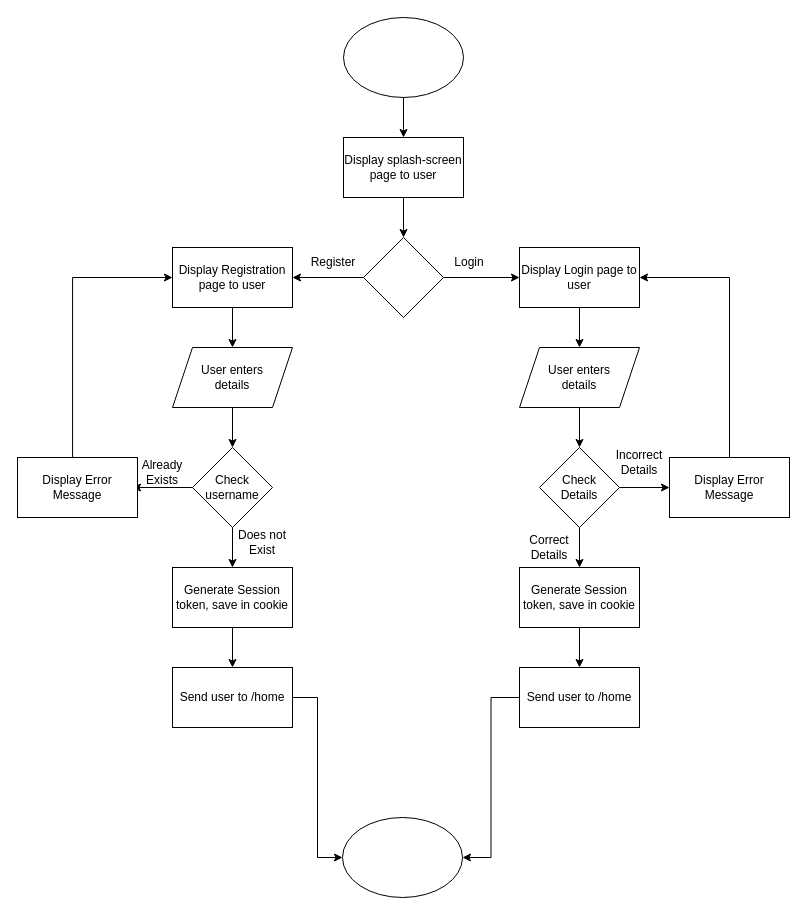
This 807x915 diagram has some shape labels left out. Each missing label, with the centre of its shape:
Authentication Workflow: [403,57]
Complete: [402,857]
User picks login/register: [403,277]
